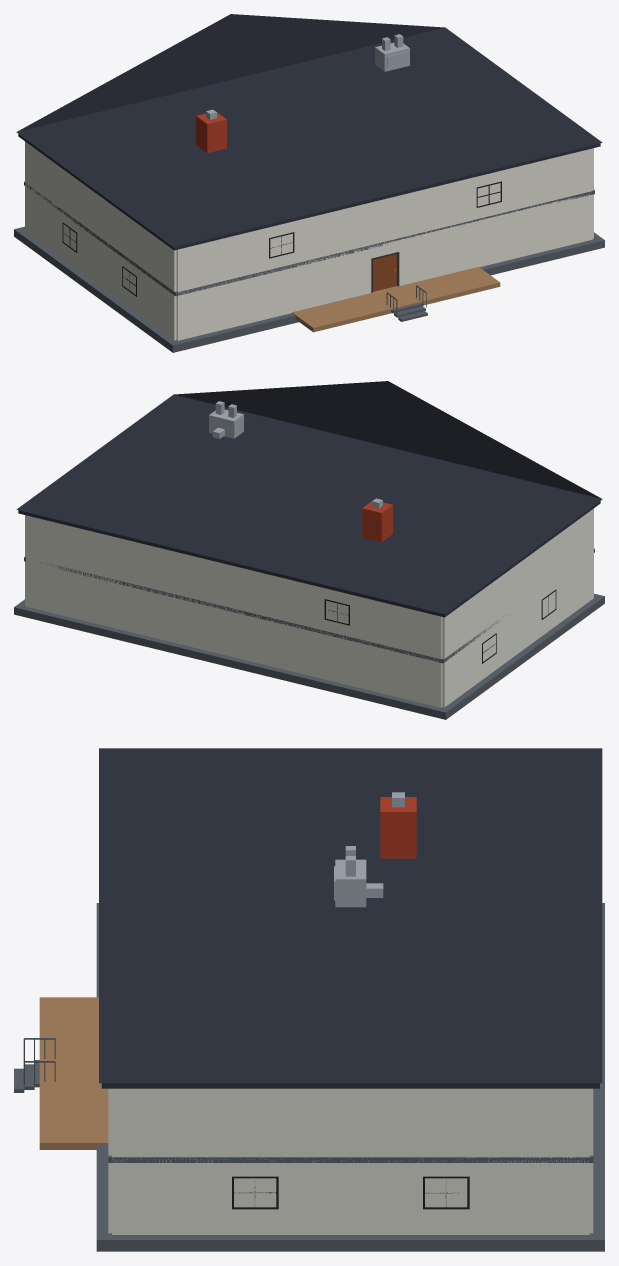
The model's file is bp_proj19_2D_Technical.obj.
3 views of the same model, one above another, from view 1: azimuth 30°, elevation 25°; view 2: azimuth 150°, elevation 25°; view 3: azimuth 270°, elevation 25° (orthographic). The views are drawn at different scales.
Visible parts, largest first — view 1: Roof_Gable_Pitch, Ext_Wall_South_2F, Ext_Wall_South_R, Ext_Wall_South_L, Ext_Wall_West, Ext_Wall_West_2F, Foundation_Slab, Porch_Deck, Roof_Cap_Base, Second_Floor_Slab, Masonry_Chimney, Main_Front_Door_Panel (+1 smaller); view 2: Roof_Gable_Pitch, Ext_Wall_North, Ext_Wall_North_2F, Foundation_Slab, Ext_Wall_West, Ext_Wall_West_2F, Roof_Cap_Base, Second_Floor_Slab, Masonry_Chimney, Roof_Ridge_Vent_HVAC_Unit; view 3: Roof_Gable_Pitch, Ext_Wall_East, Ext_Wall_East_2F, Foundation_Slab, Porch_Deck, Roof_Cap_Base, Second_Floor_Slab, Masonry_Chimney, Roof_Ridge_Vent_HVAC_Unit.
Boxes of the visible parts, x1,y1,x2,y2 form: Roof_Gable_Pitch: (16,14,602,247); Ext_Wall_South_2F: (176,148,592,293); Ext_Wall_South_R: (399,194,592,285); Ext_Wall_South_L: (176,247,371,340); Ext_Wall_West: (25,184,176,340); Ext_Wall_West_2F: (25,141,176,291); Foundation_Slab: (14,226,604,352); Porch_Deck: (292,267,500,332); Roof_Cap_Base: (18,134,600,250); Second_Floor_Slab: (24,181,594,296); Masonry_Chimney: (196,112,226,153); Main_Front_Door_Panel: (373,254,397,291); Roof_Gable_Pitch: (16,381,602,614); Ext_Wall_North: (26,560,442,707); Ext_Wall_North_2F: (26,515,442,660); Foundation_Slab: (14,593,604,719); Ext_Wall_West: (442,551,593,707); Ext_Wall_West_2F: (442,508,593,659); Roof_Cap_Base: (18,501,600,617); Second_Floor_Slab: (24,548,594,663); Masonry_Chimney: (362,500,392,541); Roof_Ridge_Vent_HVAC_Unit: (209,409,243,438); Roof_Gable_Pitch: (99,748,602,1083); Ext_Wall_East: (112,1160,589,1234); Ext_Wall_East_2F: (112,1088,589,1159); Foundation_Slab: (96,903,604,1251); Porch_Deck: (39,997,108,1149); Roof_Cap_Base: (101,1083,599,1088); Second_Floor_Slab: (108,1155,593,1162); Masonry_Chimney: (380,797,416,858); Roof_Ridge_Vent_HVAC_Unit: (335,859,366,907).
Bounding box in the file's own units: 30.9 × 13.06 × 22.9.
